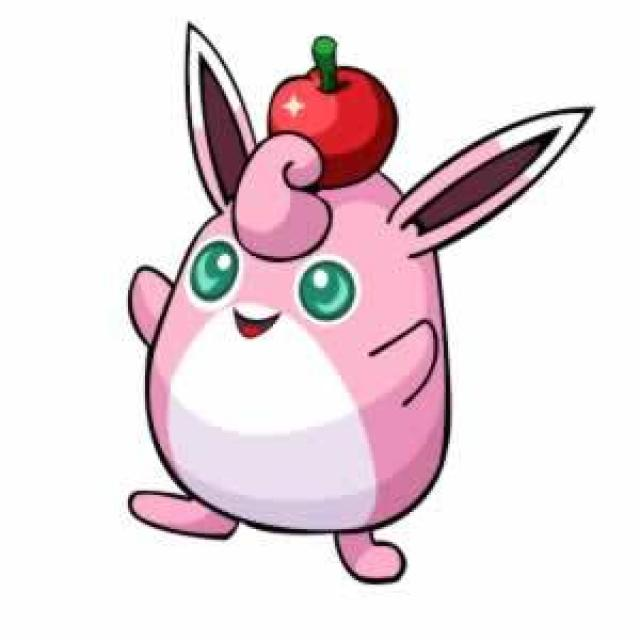Wigglytuff: (126, 107, 487, 586)
